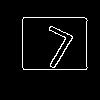L: (25, 25, 77, 79)
